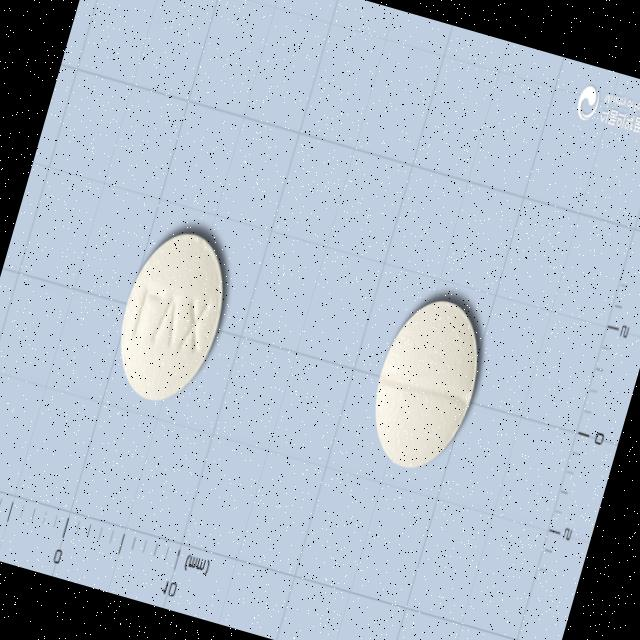Revloxin Tab: (101, 220, 242, 416), (357, 288, 495, 482)
